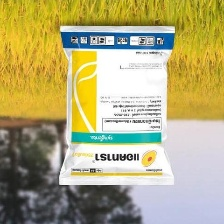insecticide: (57, 22, 179, 187)
